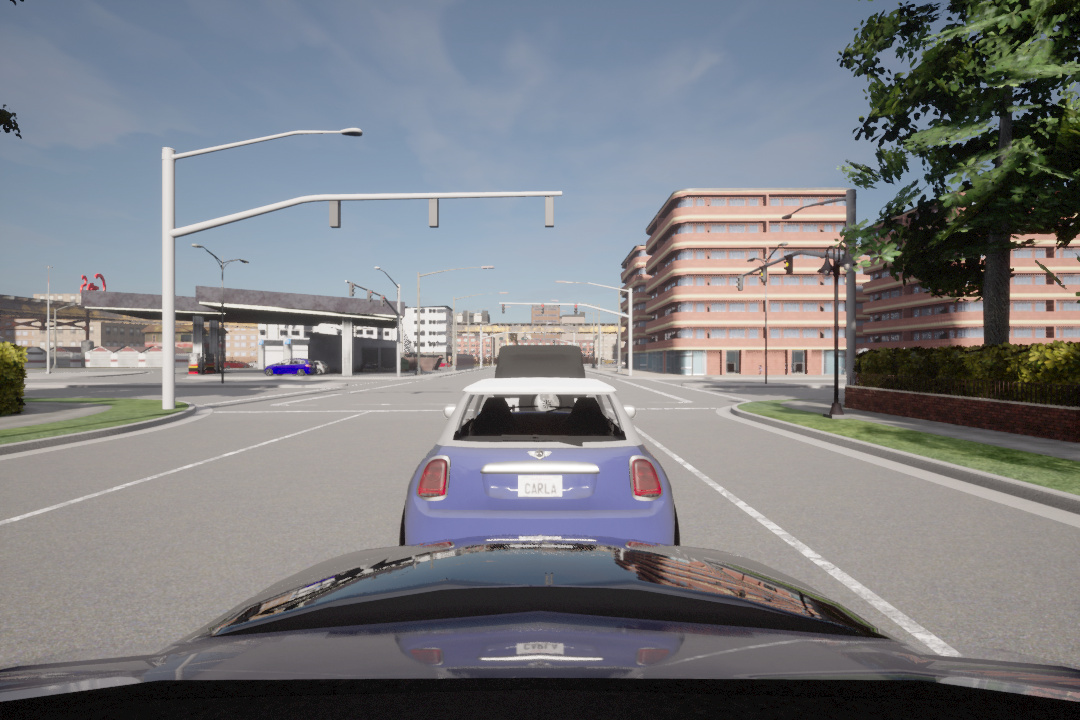TrafficLight: (783, 254, 797, 277), (757, 264, 768, 286), (735, 272, 745, 294), (364, 289, 374, 305), (499, 302, 509, 317), (346, 282, 355, 297), (379, 294, 386, 308), (537, 303, 545, 315), (572, 303, 578, 316)
